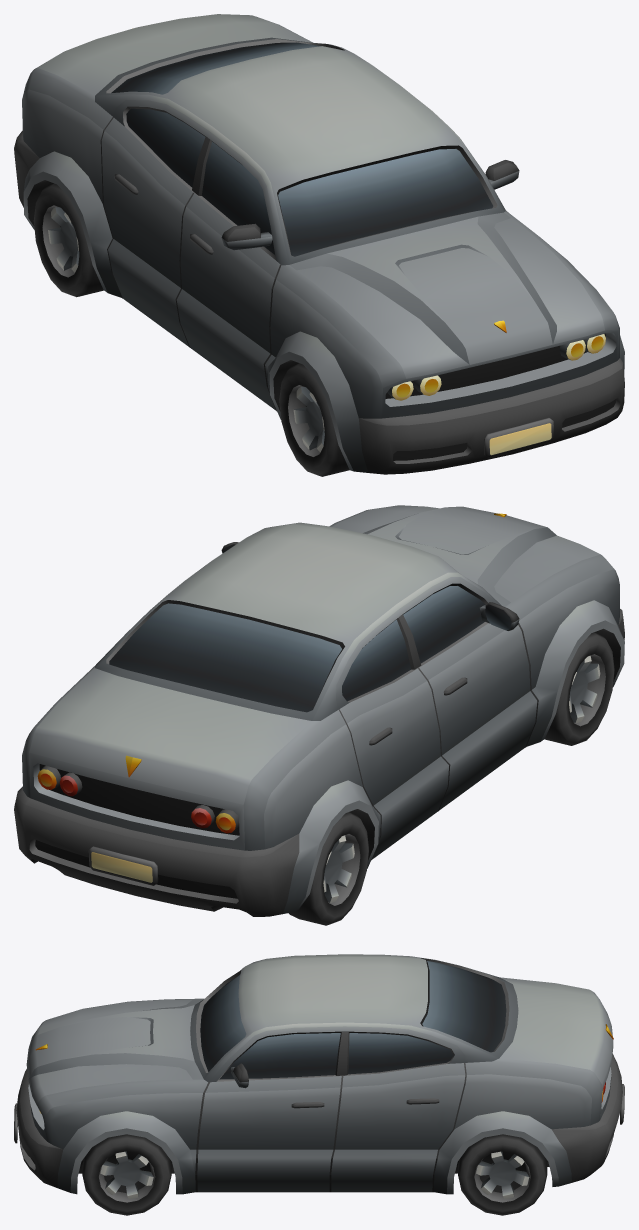
Rendered from Car_6F.fbx.
3 renders of one model, top to bottom at view 1: azimuth 30°, elevation 25°; view 2: azimuth 150°, elevation 25°; view 3: azimuth 270°, elevation 25°, orthographic. The views are drawn at different scales.
Parts seen in each view (by area): view 1: Car_6F, Wheel_6F_F.R, Wheel_6F_R.R; view 2: Car_6F, Wheel_6F_R.R, Wheel_6F_F.R; view 3: Car_6F, Wheel_6F_F.L, Wheel_6F_R.L.
Part boxes in pixels (<box>): Car_6F: <box>14,14,624,474</box>; Wheel_6F_F.R: <box>279,363,349,476</box>; Wheel_6F_R.R: <box>33,183,103,297</box>; Car_6F: <box>14,505,624,916</box>; Wheel_6F_R.R: <box>288,812,368,925</box>; Wheel_6F_F.R: <box>544,632,614,745</box>; Car_6F: <box>14,954,624,1194</box>; Wheel_6F_F.L: <box>82,1134,171,1215</box>; Wheel_6F_R.L: <box>458,1134,547,1215</box>.
Bounding box in the file's own units: 246 × 193 × 580.
